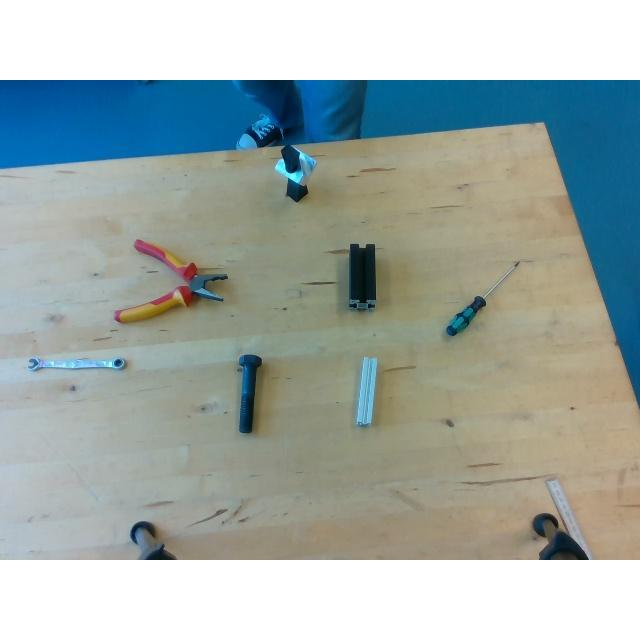F20_20_G: (356, 356, 376, 424)
M20_100: (237, 354, 260, 432)
S40_40_B: (348, 243, 376, 309)
Screwdriver: (442, 260, 522, 336)
Wrench: (26, 356, 126, 368)
